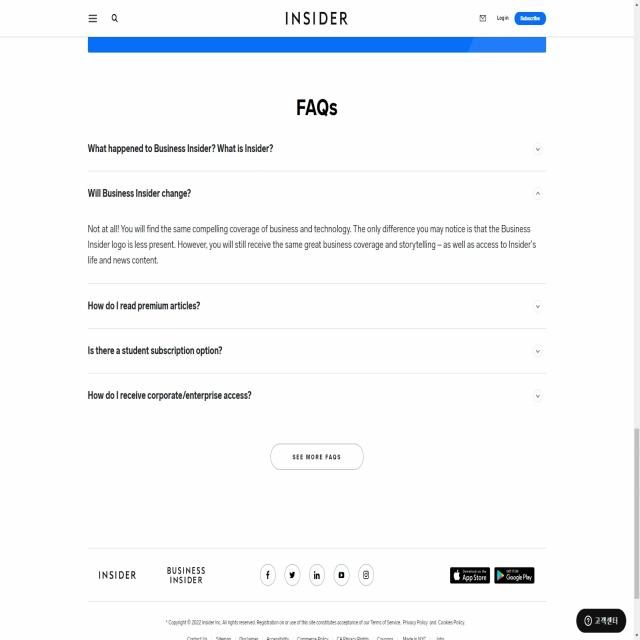menu-bar: (476, 7, 548, 30), (82, 7, 122, 30)
